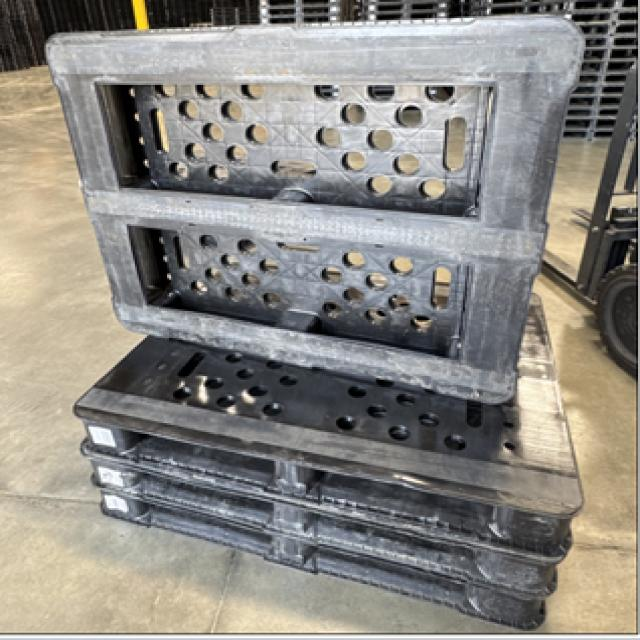igps: (42, 11, 590, 408), (67, 288, 592, 638), (551, 0, 638, 145)
